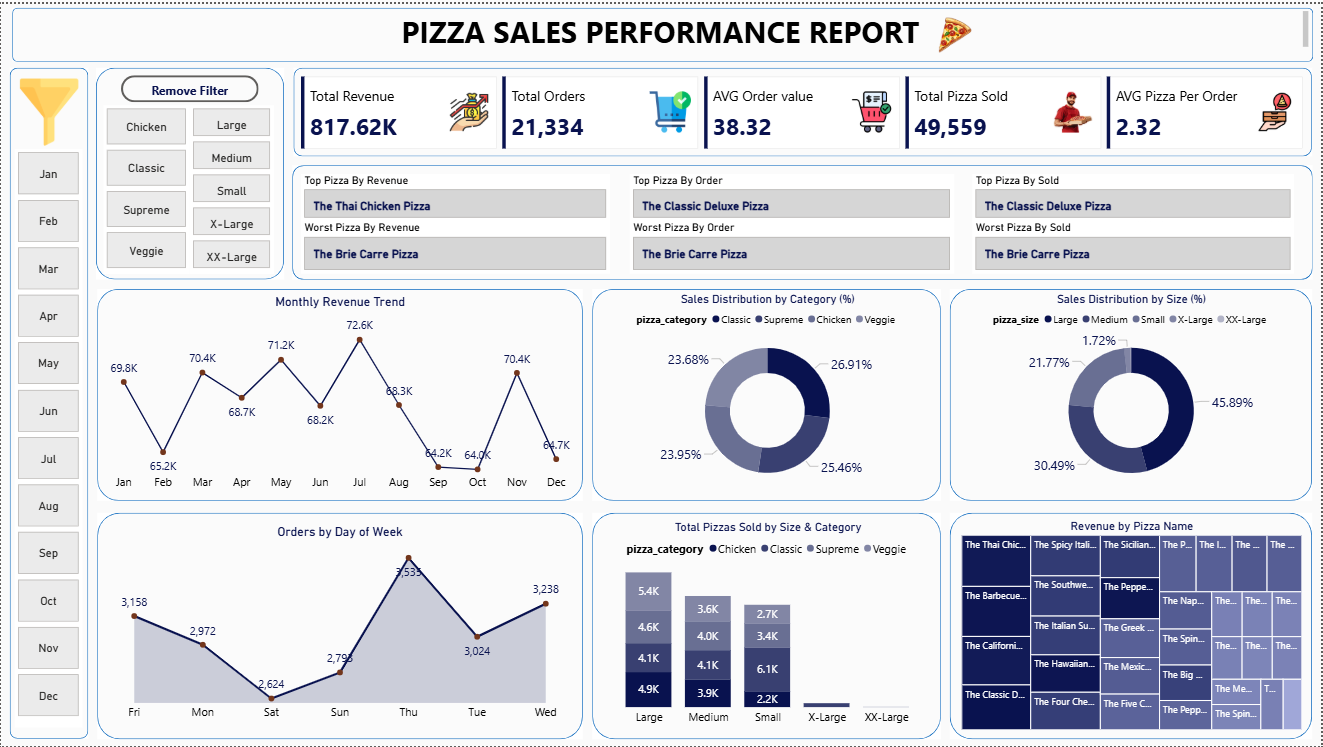

The dashboard page shown, as its layout file describes it:
{"tool":"powerbi","page":{"name":"Page 1","canvas":[1920,1080],"ordinal":0},"visuals":[{"type":"group","id":"g1","title":"Group 1","box":[12.7,5.5,1896.4,1063.6],"z":0,"group":"g5"},{"type":"shape","box":[16.8,5.5,1892.2,78.8],"z":0,"group":"g1"},{"type":"advancedSlicerVisual","title":"Top Pizza By Revenue","fields":{"Values":["Pizza_Sales.pizza_name"]},"box":[437,247.2,449.8,69.2],"z":0,"group":"g2"},{"type":"advancedSlicerVisual","title":"Top Pizza By Order","fields":{"Values":["Pizza_Sales.pizza_name"]},"box":[914.2,247.2,471.7,69.2],"z":0,"group":"g3"},{"type":"advancedSlicerVisual","title":"Top Pizza By Sold","fields":{"Values":["Pizza_Sales.pizza_name"]},"box":[1413.2,247.2,468,69.2],"z":0,"group":"g4"},{"type":"shape","box":[12.7,93.1,114.1,976],"z":1000,"group":"g1"},{"type":"cardVisual","fields":{"Data":["Pizza_Sales.Total Revenue","Pizza_Sales.Total Orders","Pizza_Sales.AVG Order value","Pizza_Sales.Total Pizza Sold","Pizza_Sales.AVG Pizza Per Order"]},"box":[437,105.8,1458.8,105.6],"z":1000,"group":"g5"},{"type":"advancedSlicerVisual","title":"Worst Pizza By Revenue","fields":{"Values":["Pizza_Sales.pizza_name"]},"box":[437,316.4,449.8,75.8],"z":1000,"group":"g2"},{"type":"advancedSlicerVisual","title":"Worst Pizza By Order","fields":{"Values":["Pizza_Sales.pizza_name"]},"box":[914.2,316.4,471.7,75.8],"z":1000,"group":"g3"},{"type":"advancedSlicerVisual","title":"Worst Pizza By Sold","fields":{"Values":["Pizza_Sales.pizza_name"]},"box":[1413.2,316.4,468,75.8],"z":1000,"group":"g4"},{"type":"shape","box":[138.9,93.1,273.4,308],"z":2000,"group":"g1"},{"type":"lineChart","title":" Monthly Revenue Trend","fields":{"Category":["Pizza_Sales.Month Name"],"Y":["Pizza_Sales.Total Revenue"]},"box":[151.1,422.7,684.8,295.5],"z":2000,"group":"g5"},{"type":"shape","box":[140.8,413.7,706.2,308],"z":3000,"group":"g1"},{"type":"columnChart","title":"Total Pizzas Sold by Size & Category","fields":{"Category":["Pizza_Sales.pizza_size"],"Y":["Pizza_Sales.Total Pizza Sold"],"Series":["Pizza_Sales.pizza_category"]},"box":[868.7,750.4,493.5,308],"z":3000,"group":"g5"},{"type":"shape","box":[140.8,739.6,706.2,329.5],"z":4000,"group":"g1"},{"type":"lineChart","title":"Orders by Day of Week","fields":{"Category":["Pizza_Sales.Day Name"],"Y":["Pizza_Sales.Total Orders"]},"box":[149.3,755.8,688.4,295.5],"z":4000,"group":"g5"},{"type":"shape","box":[860.5,413.7,507,308],"z":5000,"group":"g1"},{"type":"donutChart","title":"Sales Distribution by Category (%)","fields":{"Category":["Pizza_Sales.pizza_category"],"Y":["Pizza_Sales.Total Revenue"]},"box":[872.3,419.1,484.4,295.5],"z":5000,"group":"g5"},{"type":"shape","box":[425,93.1,1481.2,128.9],"z":6000,"group":"g1"},{"type":"donutChart","title":"Sales Distribution by Size (%)","fields":{"Y":["Pizza_Sales.Total Revenue"],"Category":["Pizza_Sales.pizza_size"]},"box":[1393.2,419.1,502.7,295.5],"z":6000,"group":"g5"},{"type":"shape","box":[423,234.7,1484.3,166.5],"z":7000,"group":"g1"},{"type":"treemap","title":"Revenue by Pizza Name","fields":{"Group":["Pizza_Sales.pizza_name"],"Values":["Pizza_Sales.Total Revenue"]},"box":[1393.2,748.6,504.5,311.6],"z":7000,"group":"g5"},{"type":"group","id":"g2","title":"Group 2","box":[437,247.2,449.8,145],"z":8000,"group":"g5"},{"type":"shape","box":[1380.2,413.7,526.9,308],"z":8000,"group":"g1"},{"type":"group","id":"g3","title":"Group 2","box":[914.2,247.2,471.7,145],"z":9000,"group":"g5"},{"type":"shape","box":[860.5,739.6,507,329.5],"z":9000,"group":"g1"},{"type":"group","id":"g4","title":"Group 2","box":[1413.2,247.2,468,145],"z":10000,"group":"g5"},{"type":"advancedSlicerVisual","title":"Months","fields":{"Values":["Pizza_Sales.Month Name"]},"box":[20,211.4,98.3,841.6],"z":11000,"group":"g5"},{"type":"shape","box":[1380.2,739.6,526.9,329.5],"z":11000,"group":"g1"},{"type":"advancedSlicerVisual","title":"Months","fields":{"Values":["Pizza_Sales.pizza_category"]},"box":[149.3,147,125.7,245.3],"z":12000,"group":"g5"},{"type":"advancedSlicerVisual","title":"Months","fields":{"Values":["Pizza_Sales.pizza_size"]},"box":[275,147,122,245.3],"z":13000,"group":"g5"},{"type":"actionButton","box":[174.3,104,200.3,39.4],"z":13001,"group":"g1"},{"type":"image","box":[16.3,104,107.5,107.4],"z":14000,"group":"g5"},{"type":"textbox","box":[20,5.5,1886.8,64.5],"z":14001,"group":"g5"},{"type":"image","box":[1347.6,10.9,78.3,69.8],"z":14002,"group":"g5"},{"type":"group","id":"g5","title":"Group 3","box":[12.7,5.5,1896.4,1063.6],"z":14003}]}

Visuals, with their boxes in screenshot pixels (x1, y1, x2, y2), scaled from the page's 1920x1080 canvas onto the 1323x747 screenshot:
"Group 1" group: box(9, 4, 1315, 739)
shape: box(12, 4, 1315, 58)
"Top Pizza By Revenue" advancedSlicerVisual: box(301, 171, 611, 219)
"Top Pizza By Order" advancedSlicerVisual: box(630, 171, 955, 219)
"Top Pizza By Sold" advancedSlicerVisual: box(974, 171, 1296, 219)
shape: box(9, 64, 87, 739)
cardVisual - Pizza_Sales.Total Revenue x Pizza_Sales.Total Orders: box(301, 73, 1306, 146)
"Worst Pizza By Revenue" advancedSlicerVisual: box(301, 219, 611, 271)
"Worst Pizza By Order" advancedSlicerVisual: box(630, 219, 955, 271)
"Worst Pizza By Sold" advancedSlicerVisual: box(974, 219, 1296, 271)
shape: box(96, 64, 284, 277)
" Monthly Revenue Trend" lineChart: box(104, 292, 576, 497)
shape: box(97, 286, 584, 499)
"Total Pizzas Sold by Size & Category" columnChart: box(599, 519, 939, 732)
shape: box(97, 512, 584, 739)
"Orders by Day of Week" lineChart: box(103, 523, 577, 727)
shape: box(593, 286, 942, 499)
"Sales Distribution by Category (%)" donutChart: box(601, 290, 935, 494)
shape: box(293, 64, 1313, 154)
"Sales Distribution by Size (%)" donutChart: box(960, 290, 1306, 494)
shape: box(291, 162, 1314, 277)
"Revenue by Pizza Name" treemap: box(960, 518, 1308, 733)
"Group 2" group: box(301, 171, 611, 271)
shape: box(951, 286, 1314, 499)
"Group 2" group: box(630, 171, 955, 271)
shape: box(593, 512, 942, 739)
"Group 2" group: box(974, 171, 1296, 271)
"Months" advancedSlicerVisual: box(14, 146, 82, 728)
shape: box(951, 512, 1314, 739)
"Months" advancedSlicerVisual: box(103, 102, 189, 271)
"Months" advancedSlicerVisual: box(189, 102, 274, 271)
actionButton: box(120, 72, 258, 99)
image: box(11, 72, 85, 146)
textbox: box(14, 4, 1314, 48)
image: box(929, 8, 983, 56)
"Group 3" group: box(9, 4, 1315, 739)
